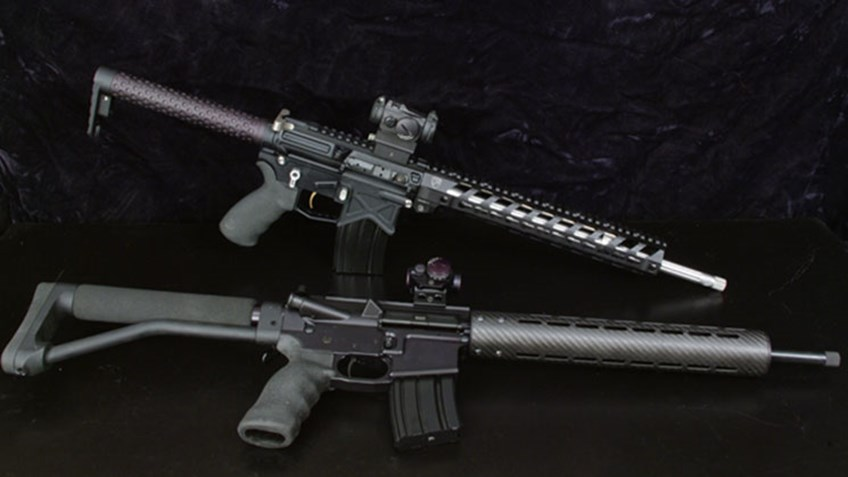Rifle: (73, 58, 742, 305), (3, 281, 840, 460)
